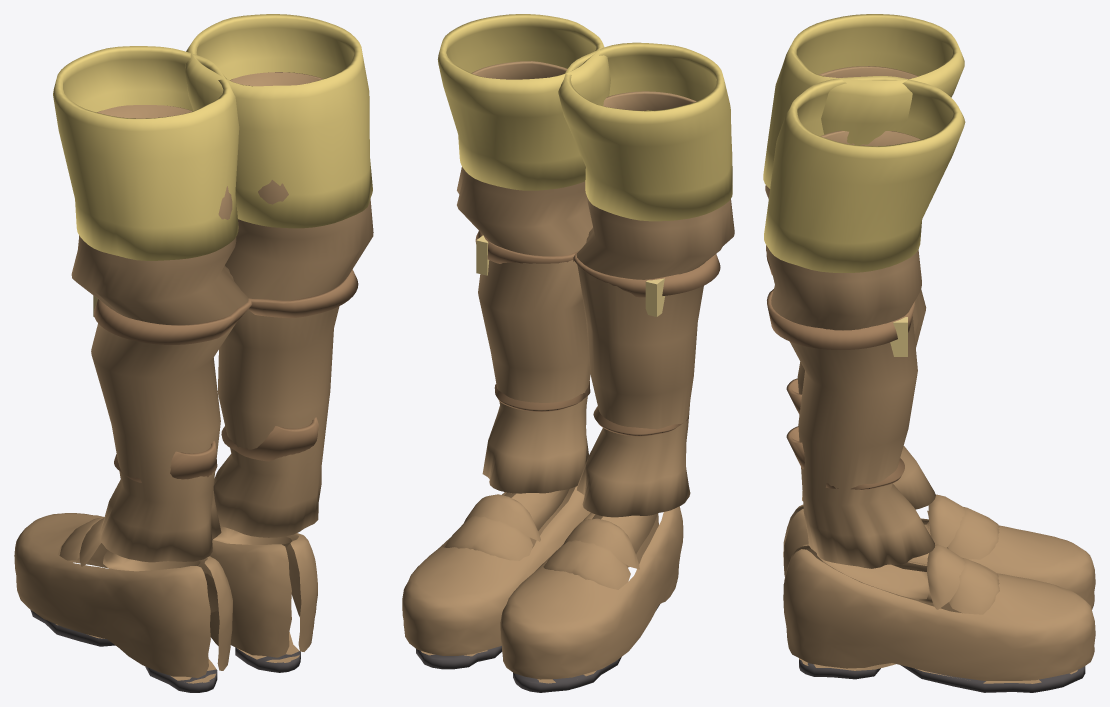
Rendered from stulpenstiefel.glb.
The picture shows the model from 3 angles, left to right: view 1: azimuth 30°, elevation 25°; view 2: azimuth 150°, elevation 25°; view 3: azimuth 270°, elevation 25°; orthographic projection. The views are drawn at different scales.
Visible parts, largest first — view 1: G_stulpenstiefel; view 2: G_stulpenstiefel; view 3: G_stulpenstiefel.
Boxes of the visible parts, x1=… form: G_stulpenstiefel: x1=14, y1=14, x2=373, y2=692; G_stulpenstiefel: x1=402, y1=14, x2=734, y2=692; G_stulpenstiefel: x1=763, y1=14, x2=1095, y2=692.
Size of the model in its own units: 0.2886 by 0.5651 by 0.2985.
